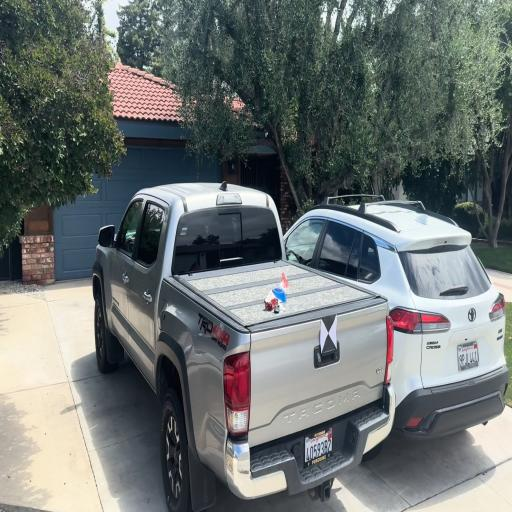target: (320, 314, 337, 354)
